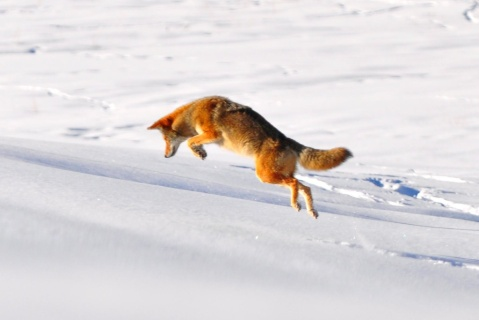Fox: (146, 94, 353, 219)
